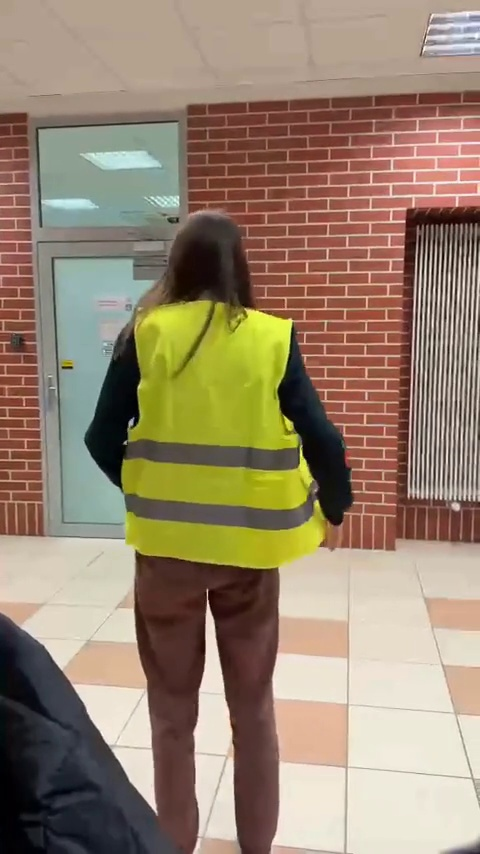vest: (106, 212, 354, 851)
